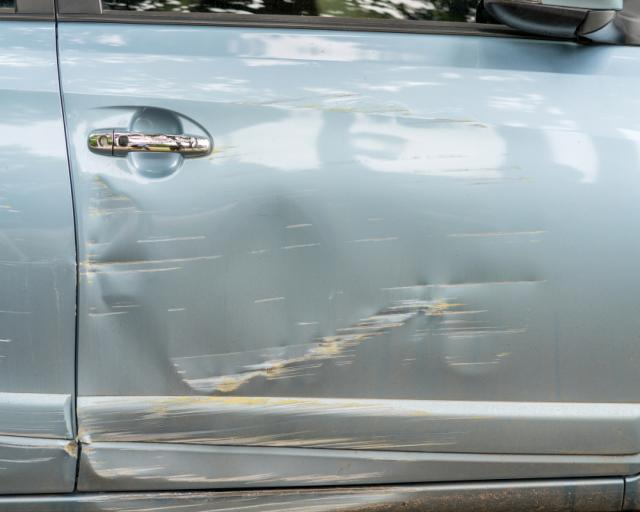dent: (81, 176, 547, 387)
scratch: (79, 389, 481, 491), (231, 92, 525, 181), (98, 485, 414, 512)
